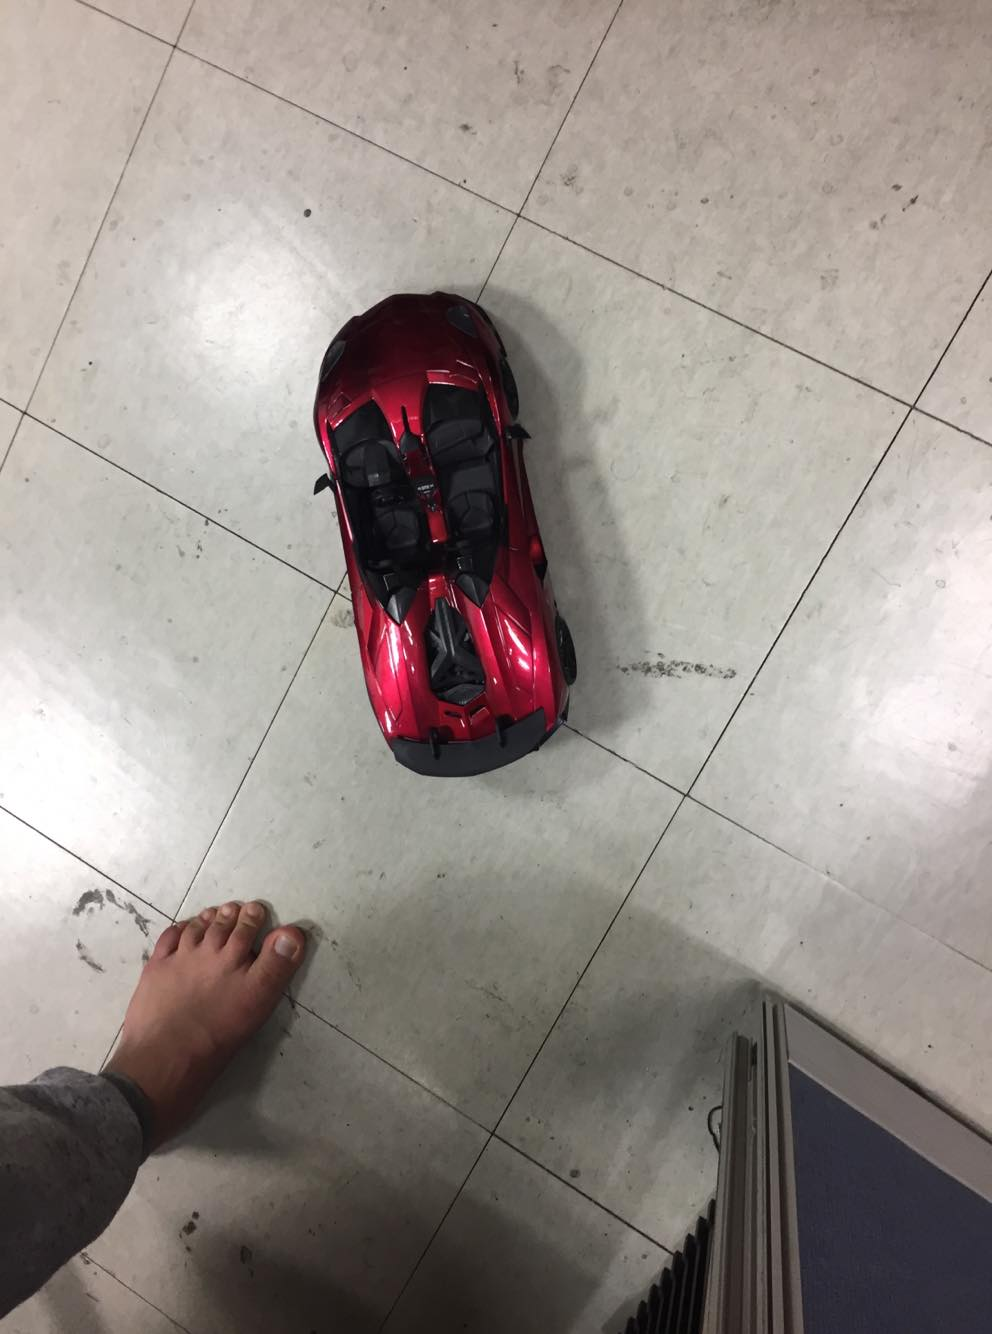car: (284, 285, 590, 780)
